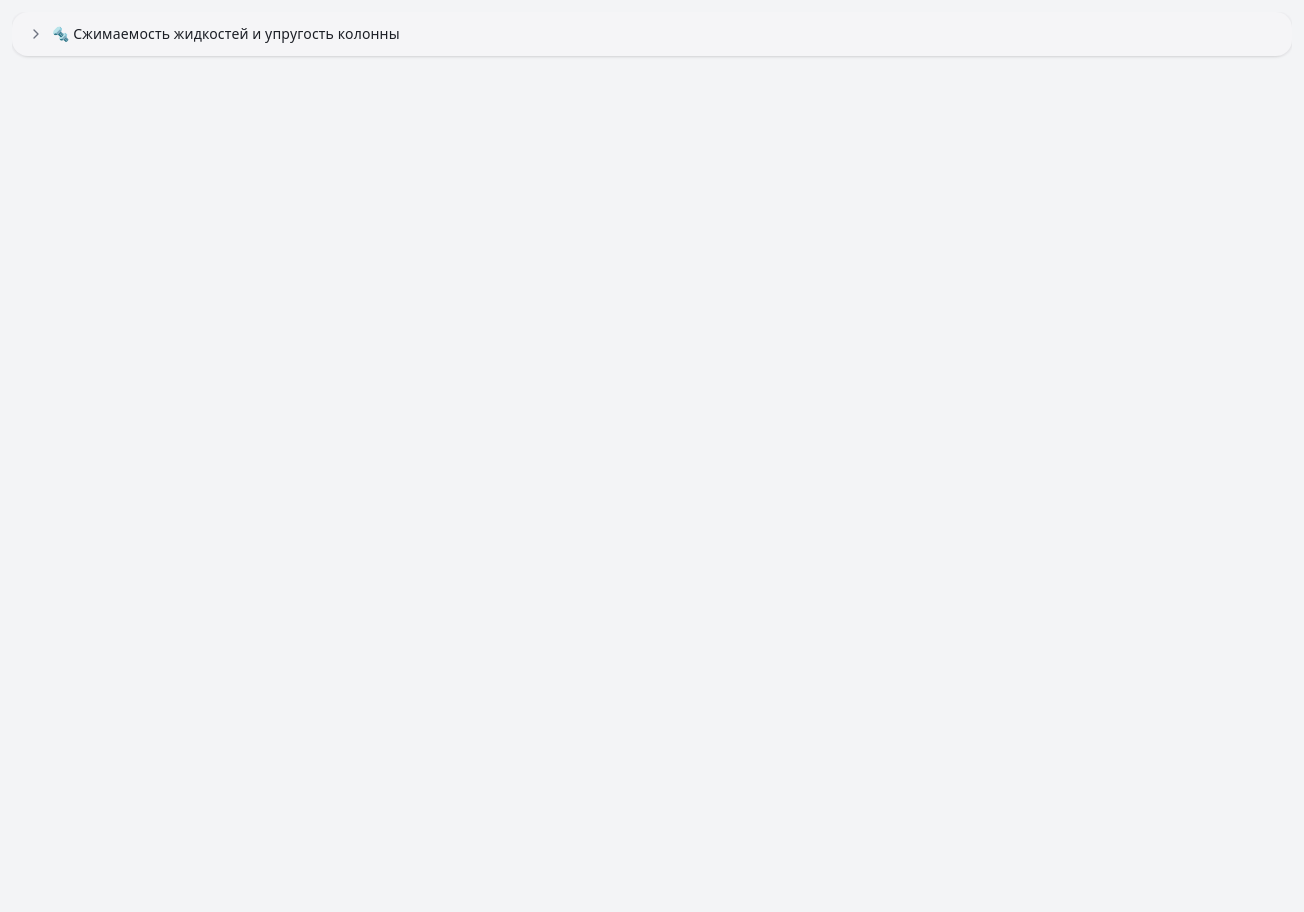
Test case: keeps the phase opt-in, retains inputs when disabled and asks for physical moduli
The image size is (1304, 912).
Earlier steps of the test are not shown.
Later steps or results of the test are not shown.
Click the button "🔩 Сжимаемость жидкостей и упругость колонны" at (226, 34), box [12, 12, 1292, 56]
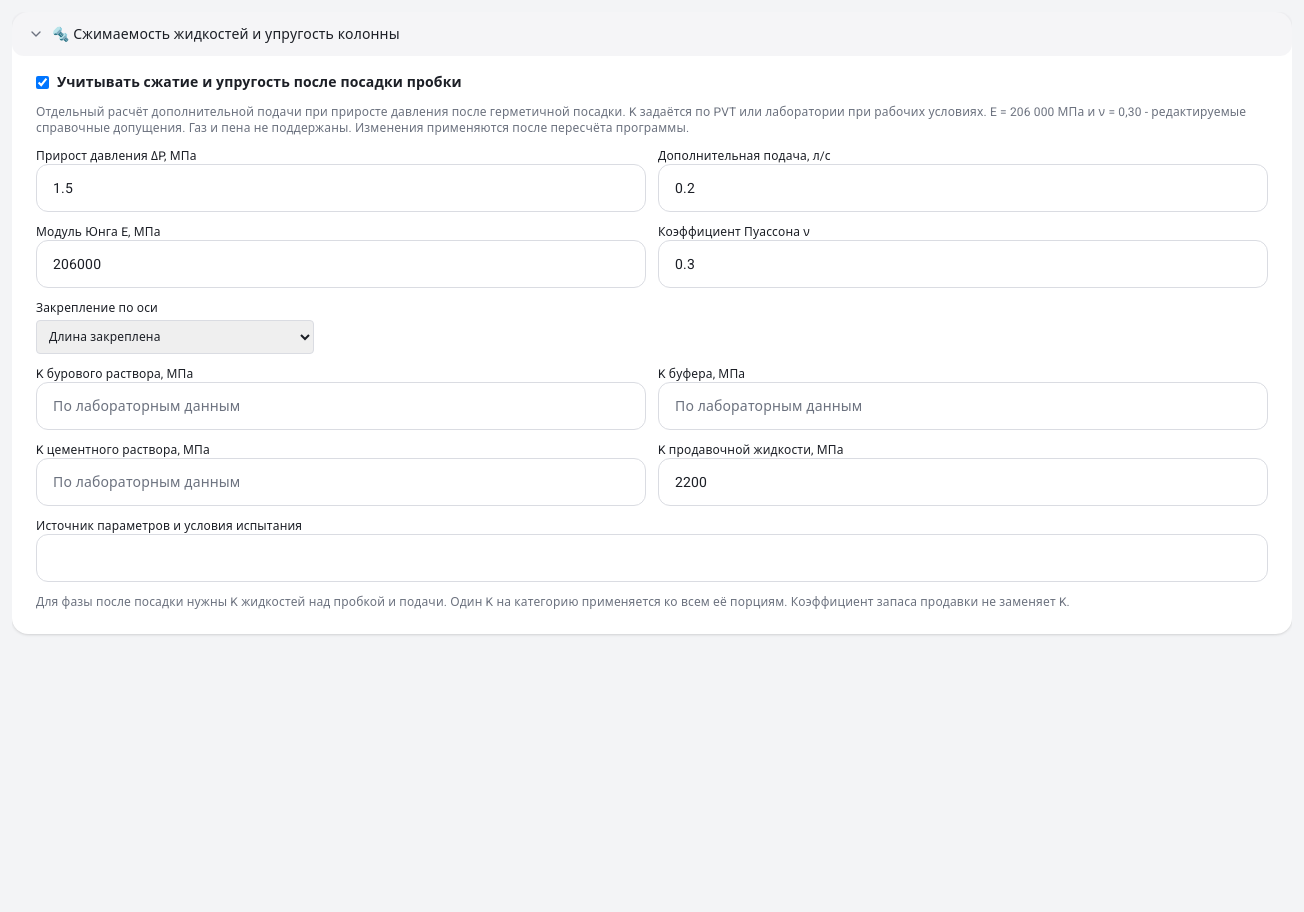
Result: the number field labelled "K продавочной жидкости, МПа" holds "2200" at [658, 458, 1268, 506]
